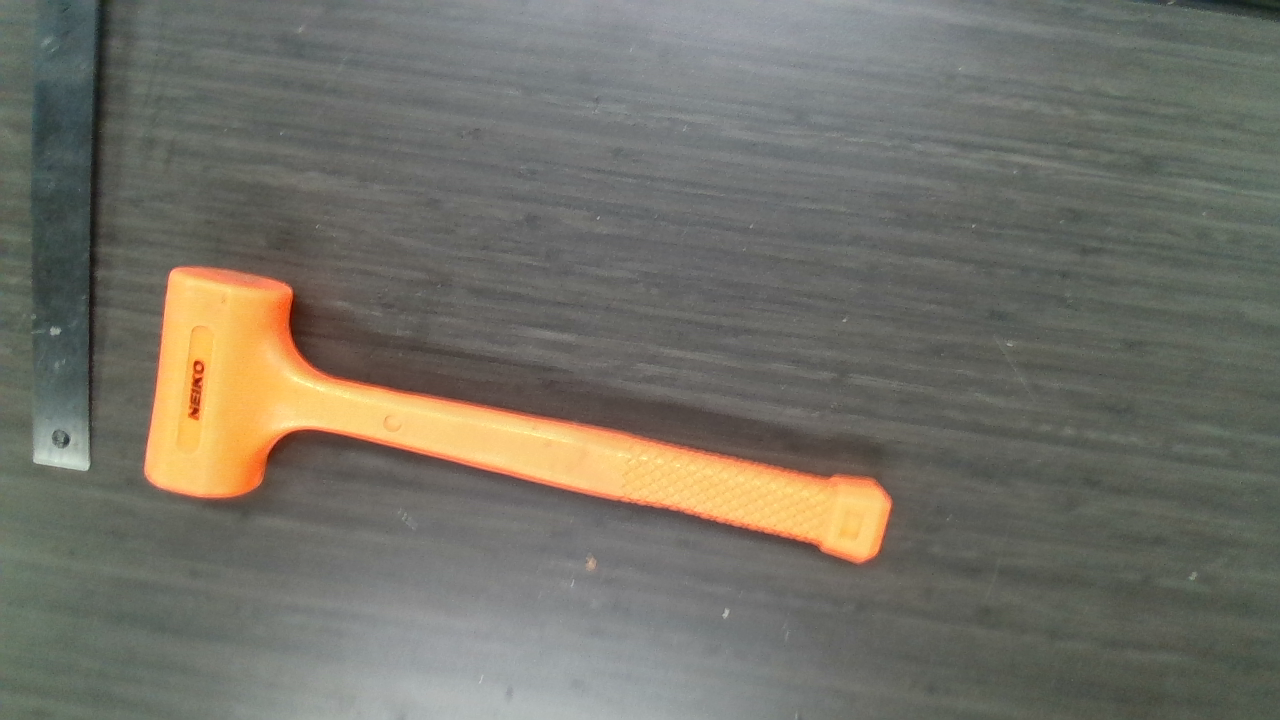Orange Hammer: (152, 263, 892, 564)
